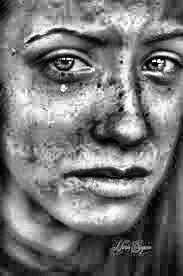sad: (5, 0, 179, 232)
